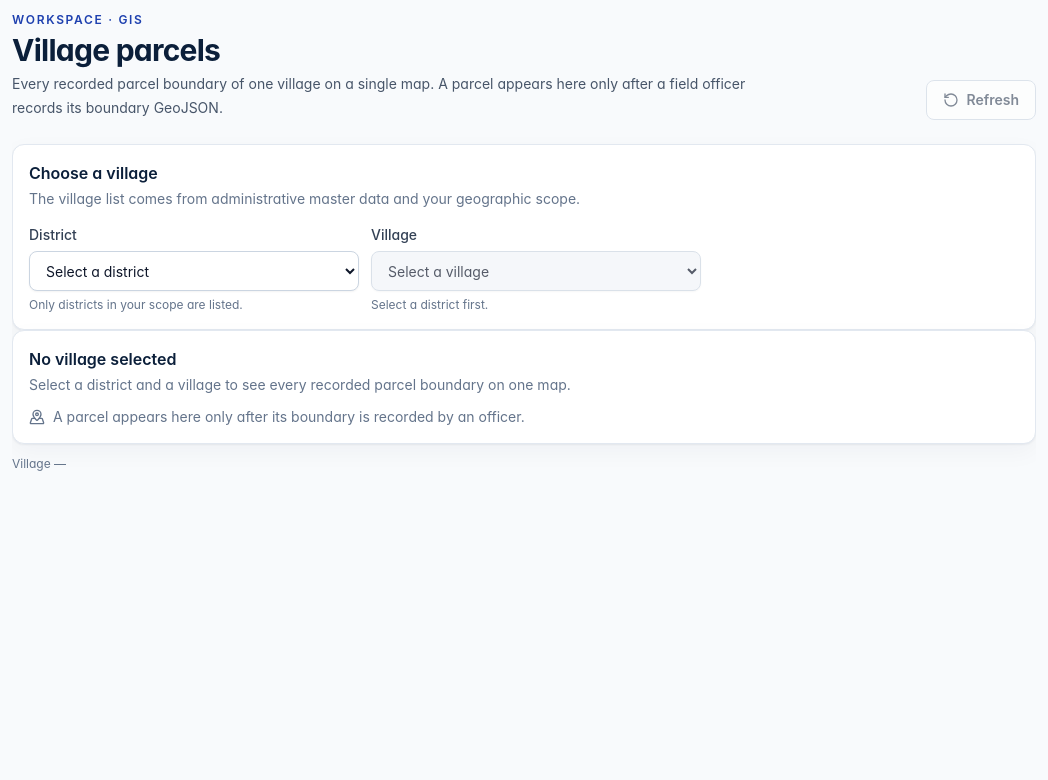
Scenario: VillageParcelsPage › shows the honest empty state when the village has no recorded boundaries
Step 1. Select "Pune" in the dropdown labelled "District" → (194, 271), box [29,251,359,291]
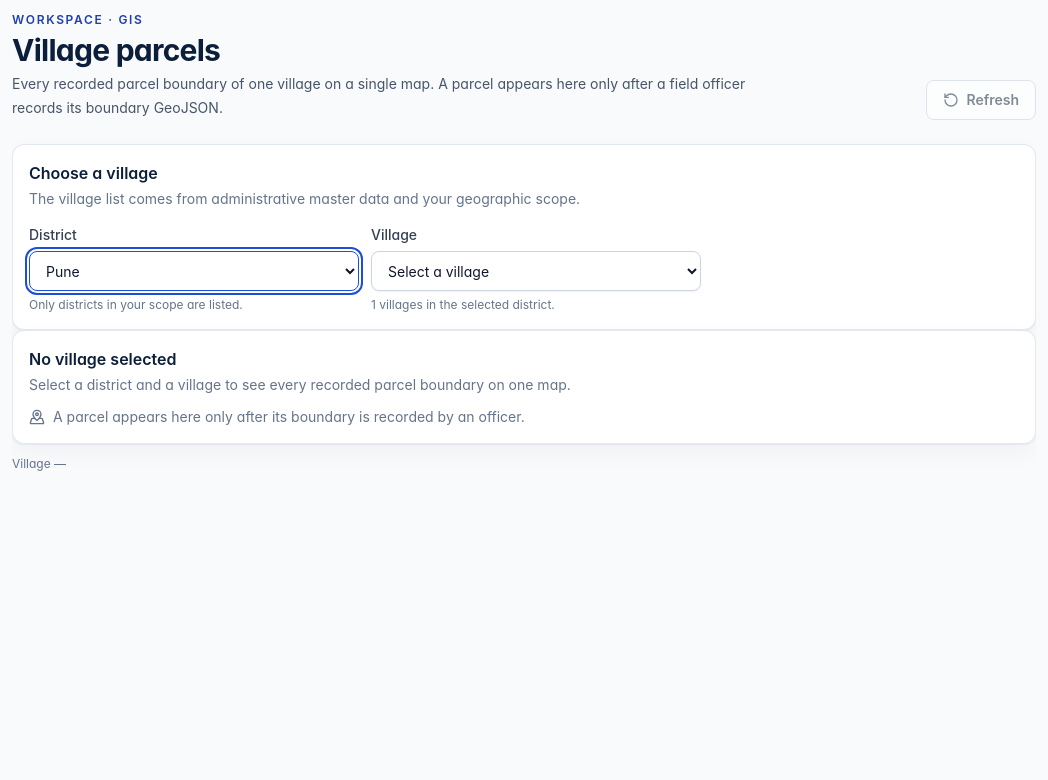
Step 2. Select "Village One" in the dropdown labelled "Village" → (536, 271), box [371,251,701,291]
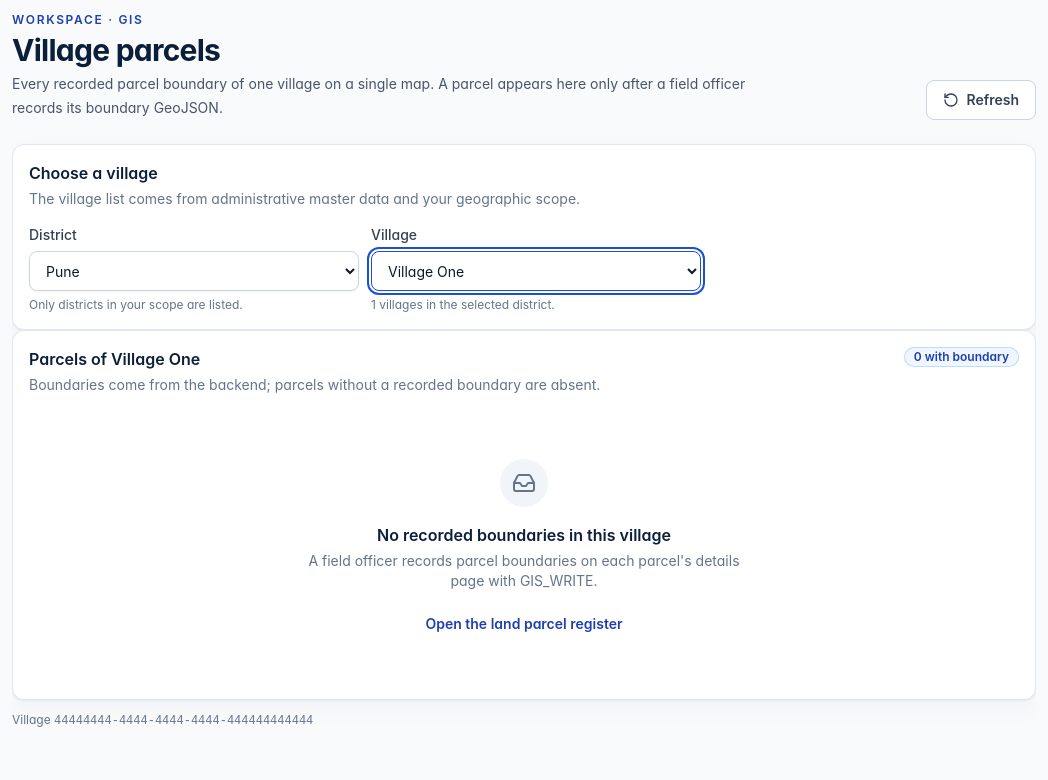
Now the heading "No recorded boundaries in this village" is shown, box [377,523,671,547]
